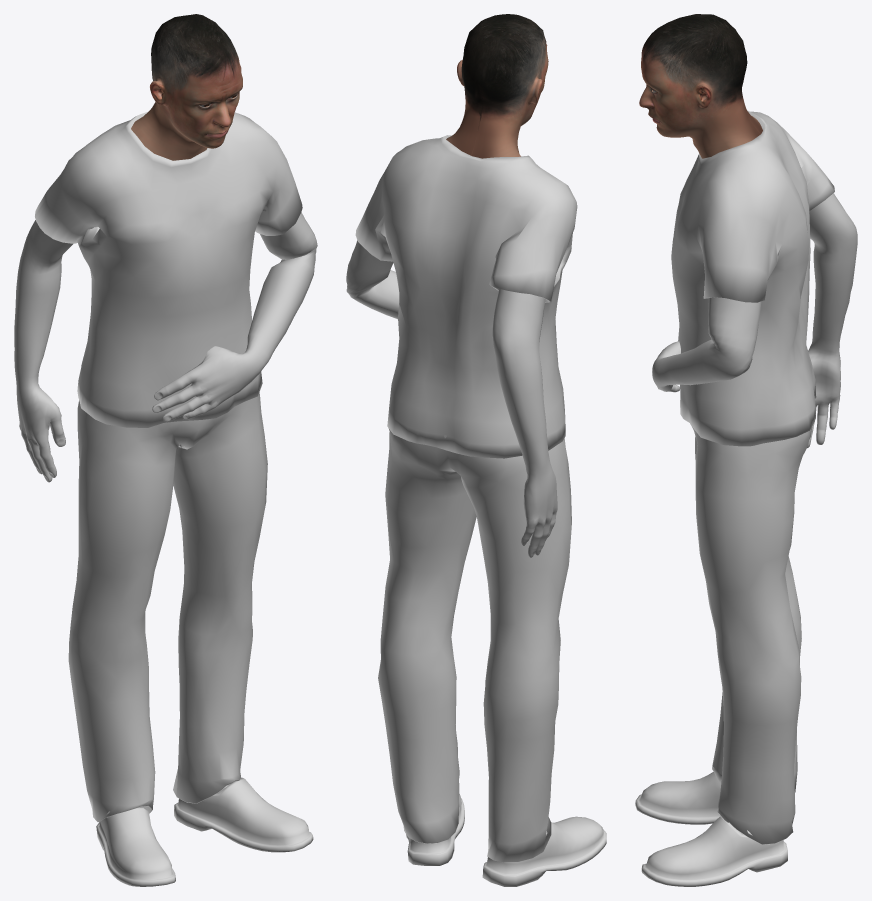
The model's file is pose_6.fbx.
3 views of the same model, side by side, from view 1: azimuth 30°, elevation 25°; view 2: azimuth 150°, elevation 25°; view 3: azimuth 270°, elevation 25° (orthographic).
Parts seen in each view (by area): view 1: clothes.005, body.006, head_1.006; view 2: clothes.005, body.006, head_1.006; view 3: clothes.005, body.006, head_1.006.
Boxes of the visible parts, box(x1,y1,x2,y2) form: clothes.005: box(35, 112, 313, 886); body.006: box(14, 209, 317, 792); head_1.006: box(131, 14, 242, 160); clothes.005: box(355, 135, 606, 886); body.006: box(346, 240, 557, 557); head_1.006: box(446, 14, 548, 158); clothes.005: box(635, 110, 834, 886); body.006: box(652, 193, 857, 834); head_1.006: box(639, 14, 762, 158).
Bounding box in the file's own units: 0.4771 × 1.53 × 0.3742.
